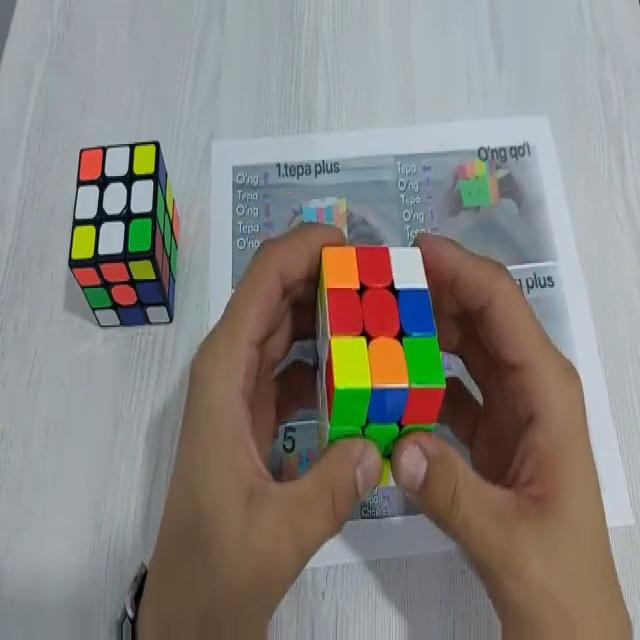Rub: (315, 244, 447, 486), (68, 140, 180, 330)
